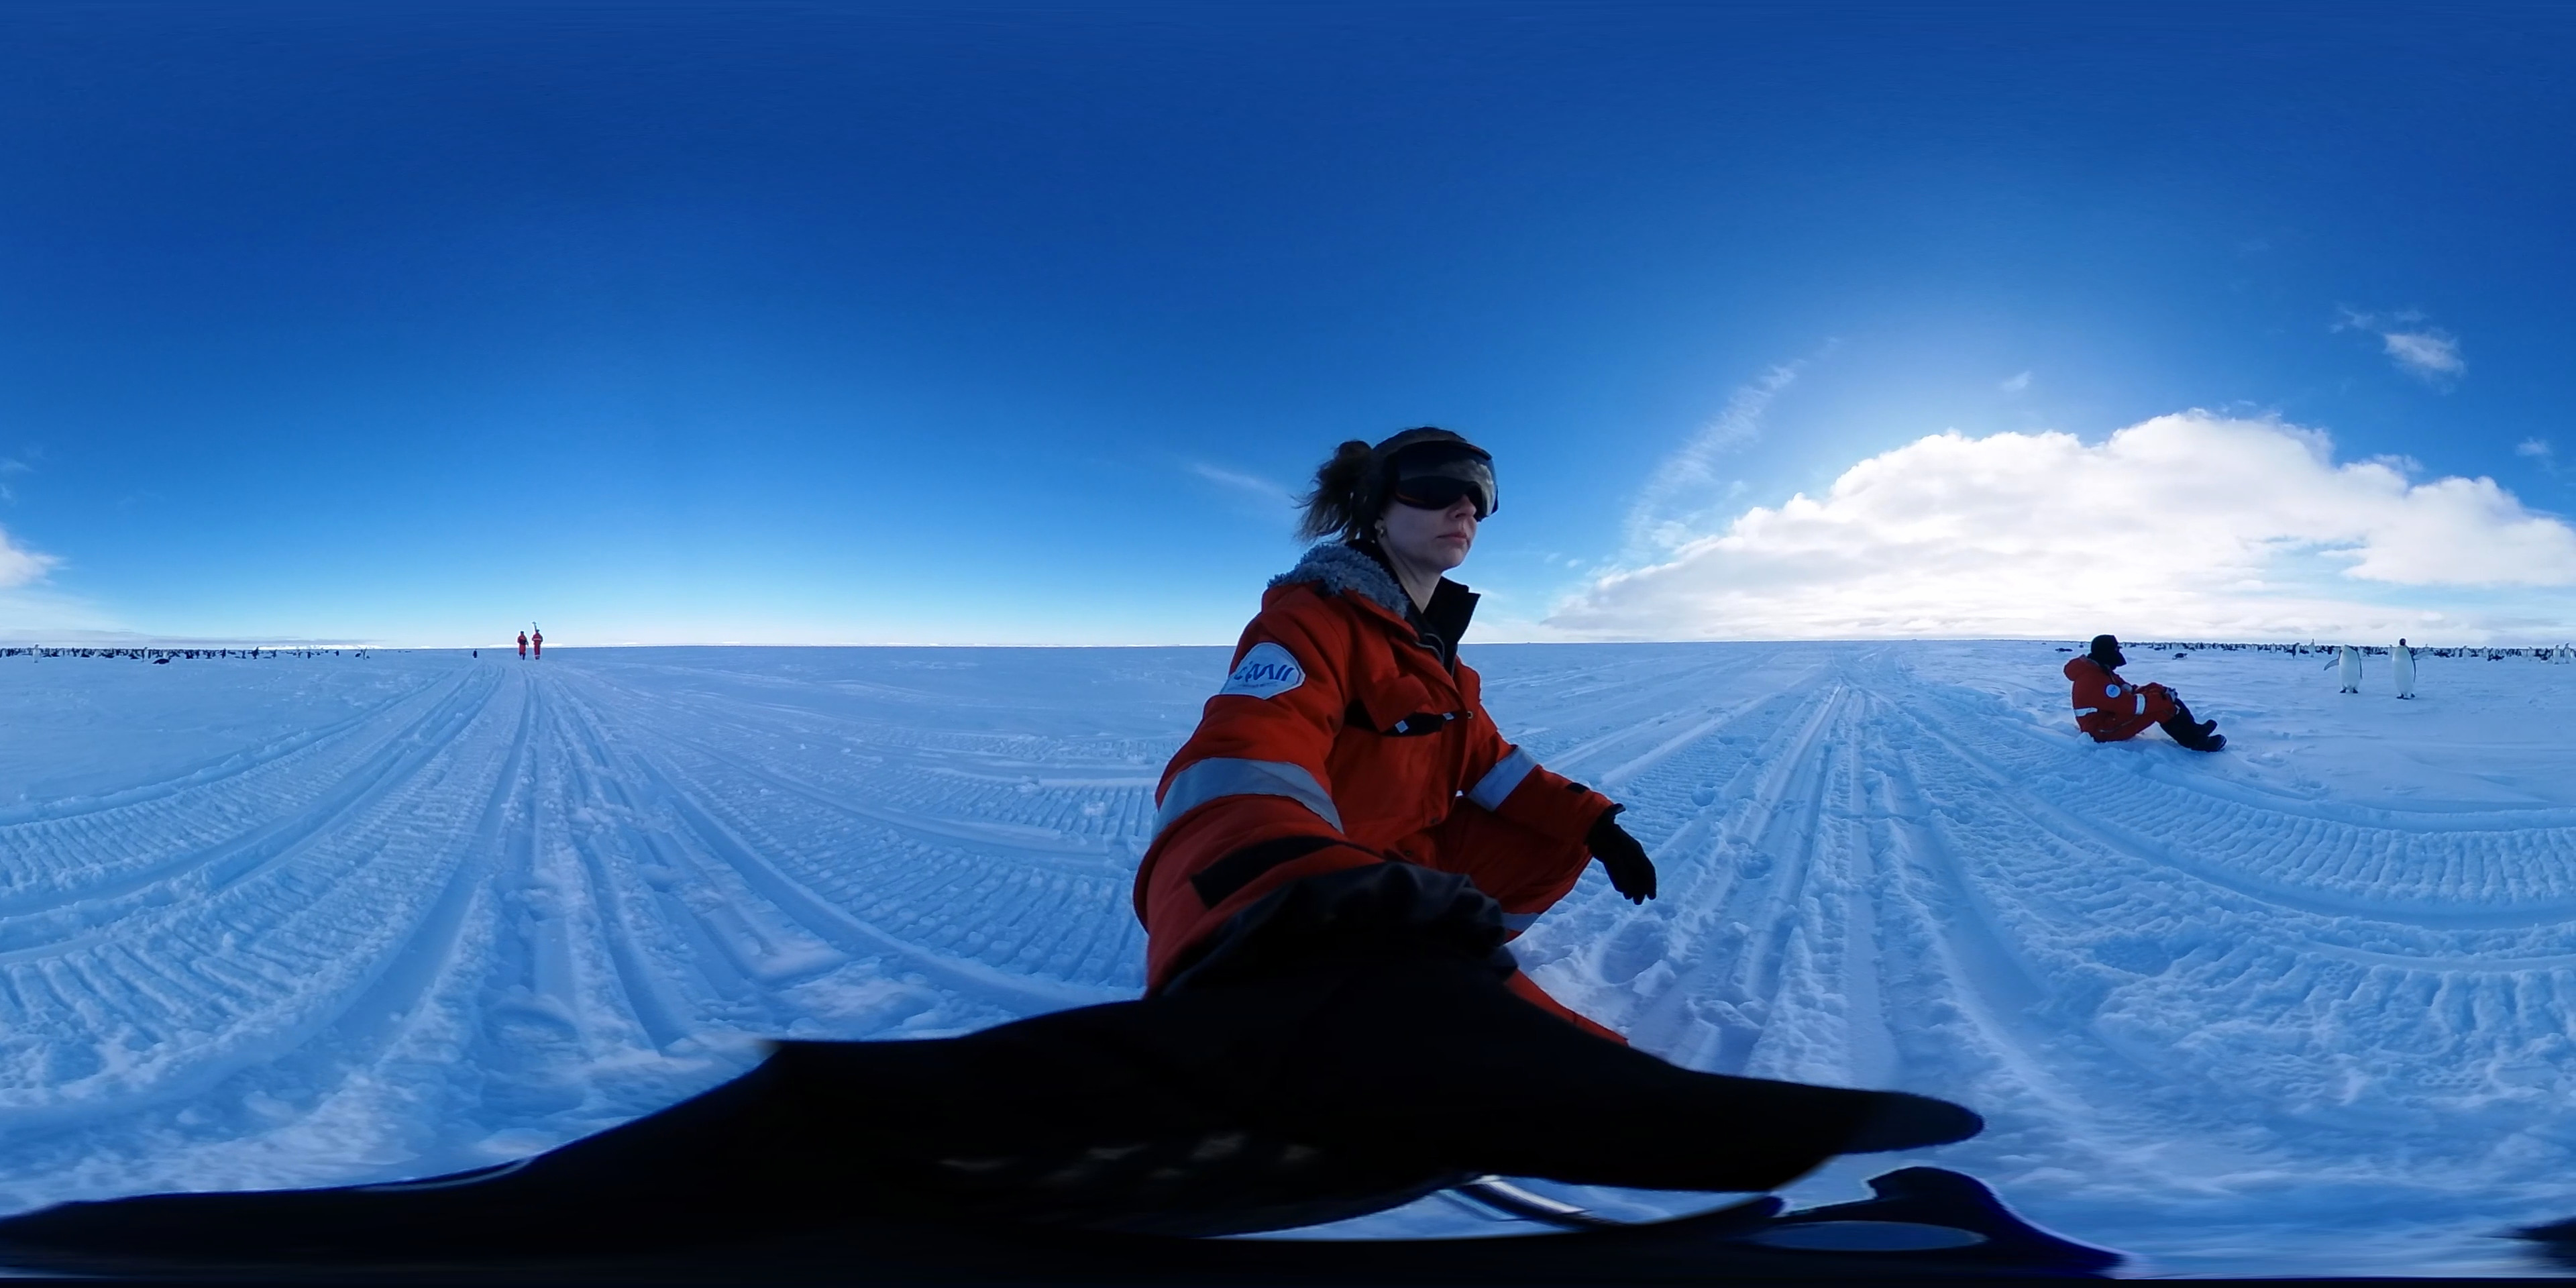adult_standing_penguin: (2323, 641, 2367, 695), (2389, 637, 2422, 701), (471, 647, 480, 660)
adult_toboggan_penguin: (151, 657, 174, 669), (2173, 651, 2188, 662)
researcher: (1130, 416, 1661, 1002), (2060, 631, 2228, 752), (532, 624, 545, 662), (517, 629, 531, 660)
